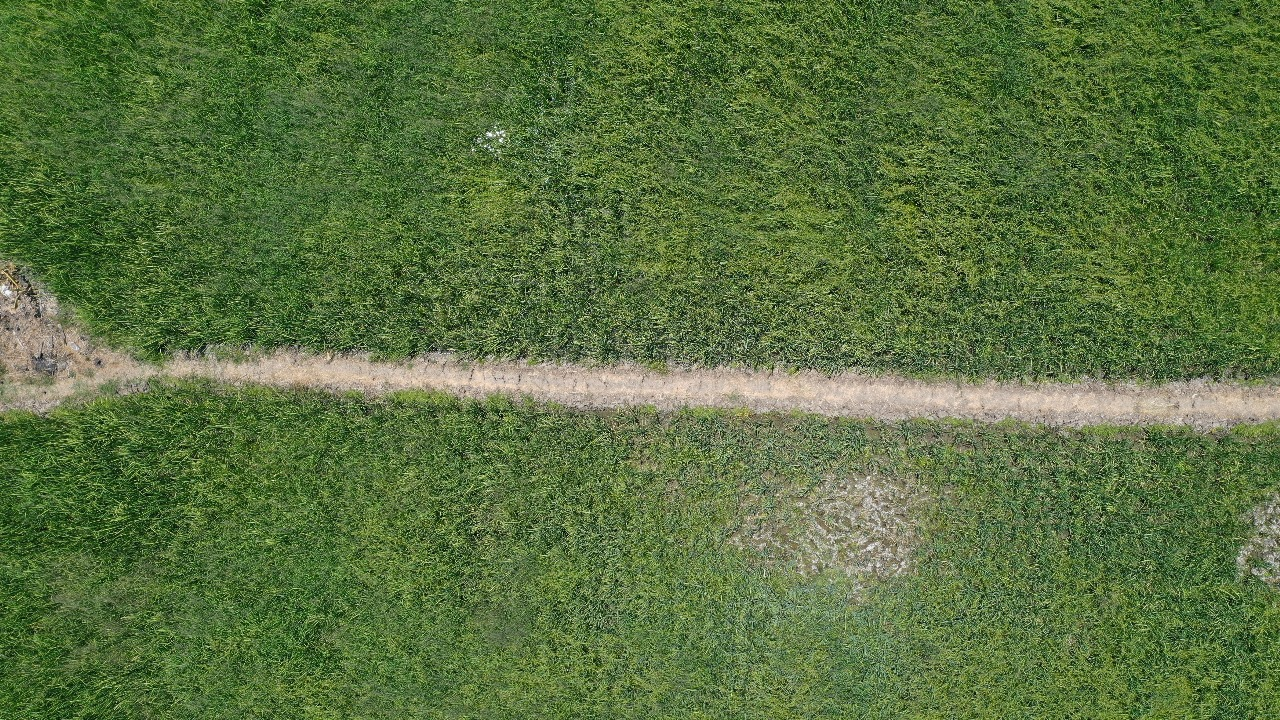irigration: (131, 332, 1280, 435), (1, 231, 126, 447)
